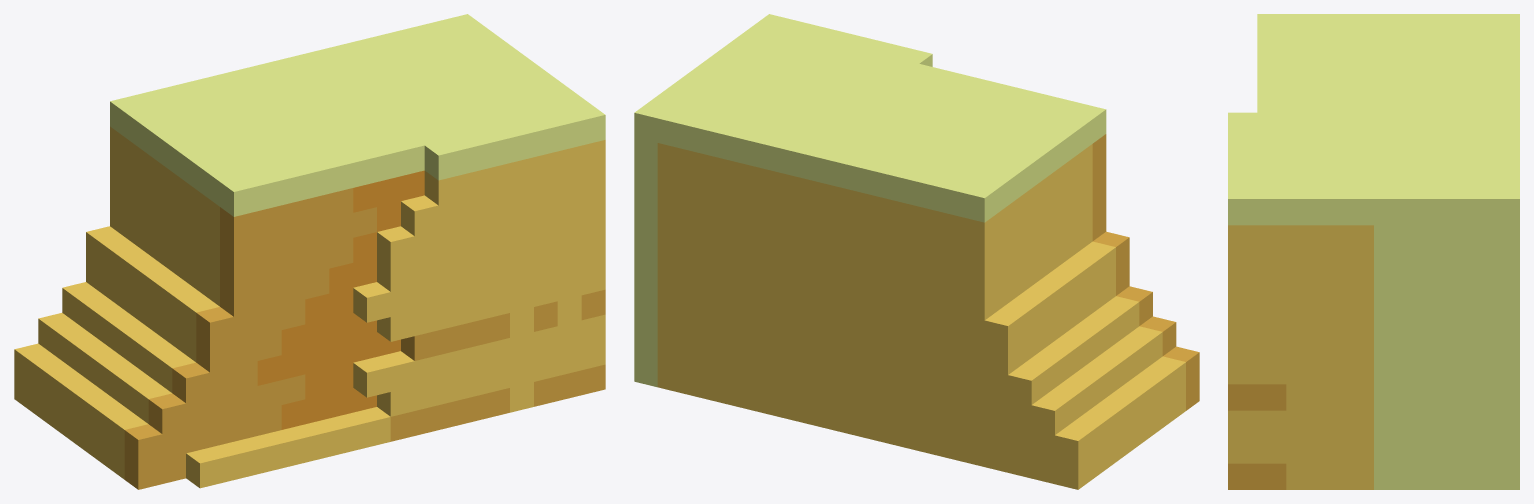
The model's file is shanti7.obj.
3 views of the same model, side by side, from view 1: azimuth 30°, elevation 25°; view 2: azimuth 150°, elevation 25°; view 3: azimuth 270°, elevation 25° (orthographic). The views are drawn at different scales.
Size of the model in its own units: 19 by 11 by 10.
Materials: 1 (1 with a texture image).
